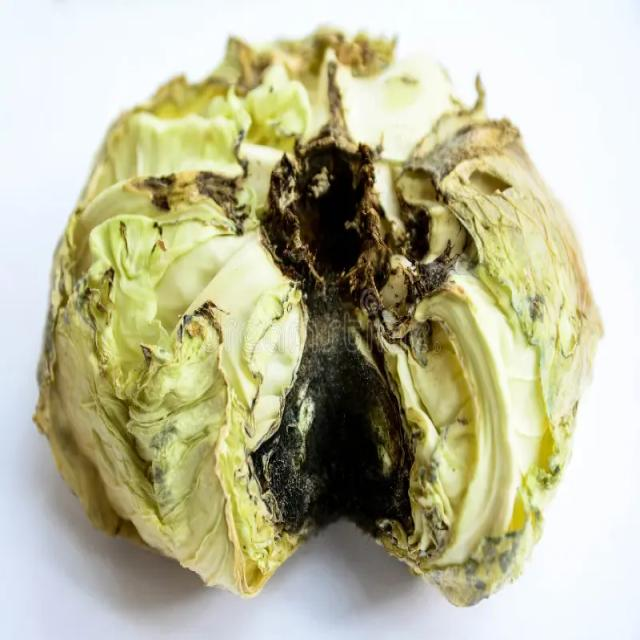rotten cabbage: (33, 27, 610, 605)
